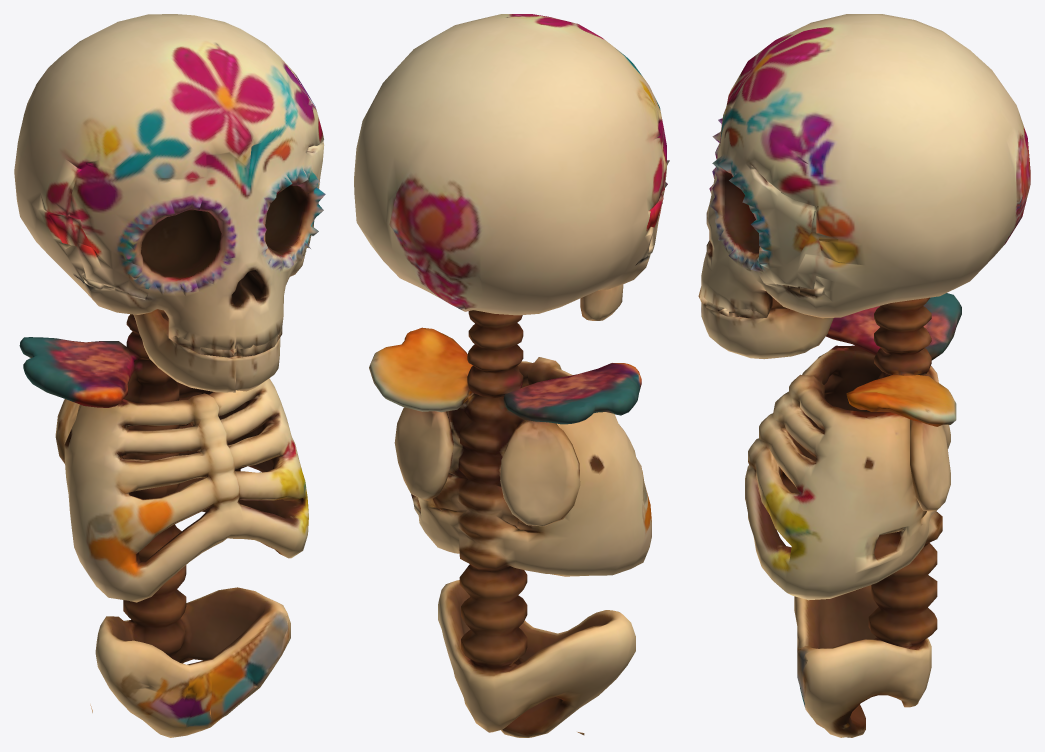
The model's file is torso.obj.
3 renders of one model, left to right at view 1: azimuth 30°, elevation 25°; view 2: azimuth 150°, elevation 25°; view 3: azimuth 270°, elevation 25°, orthographic.
Visible parts, largest first — view 1: torso; view 2: torso; view 3: torso.
Boxes of the visible parts, <box> form: torso: <box>14,14,325,737</box>; torso: <box>354,14,669,737</box>; torso: <box>698,14,1030,737</box>.
Bounding box in the file's own units: 0.2142 × 0.5374 × 0.2314.
1 material, 1 textured.
